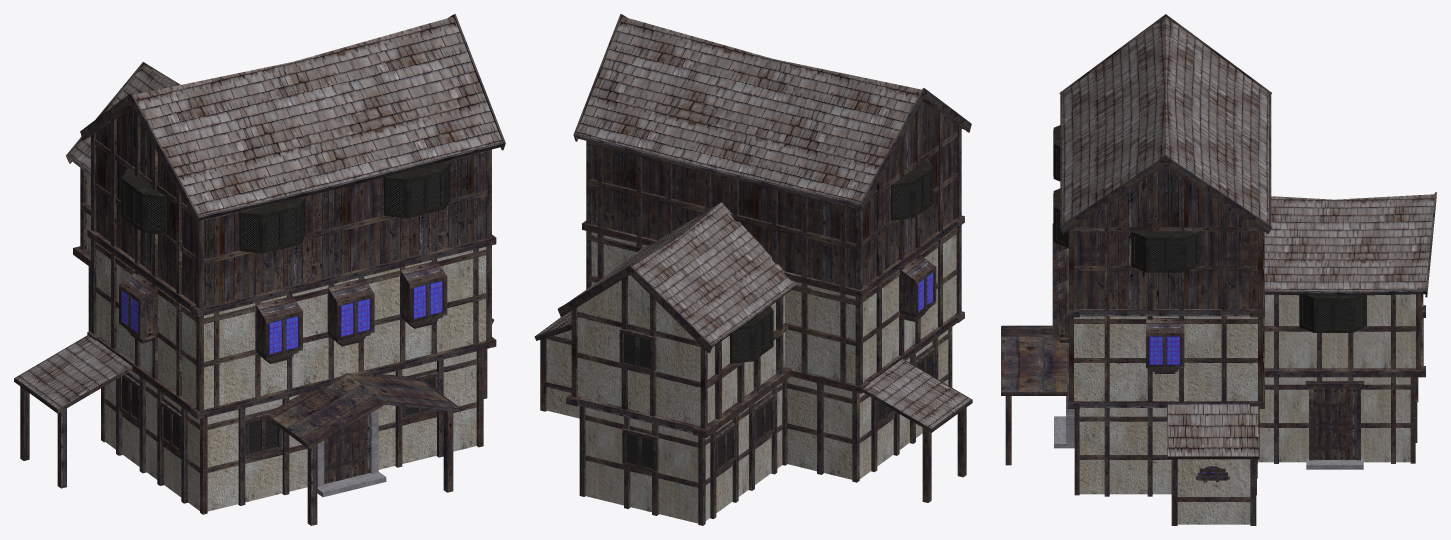
Rendered from thouse20.dae.
The picture shows the model from 3 angles, left to right: view 1: azimuth 30°, elevation 25°; view 2: azimuth 150°, elevation 25°; view 3: azimuth 270°, elevation 25°; orthographic projection. The views are drawn at different scales.
Parts seen in each view (by area): view 1: House2_Roof, House2_Level3, House2_Level2, House2_Level1, House2_Level3_Beams, House2_Level2_Beams, House2_Level1_Beams, Roof1Outer, Roof2Outer, House2_Level2_SeperatorBeams, House2_Roof_Frame, House2_Level1_SeperatorBeams (+25 smaller); view 2: House2_Roof, House2_Level3, House5_Level2, House5_Roof, House5_Level1, House2_Level3_Beams, House2_Level2, House2_Level1, House2_Level2_Beams, House5_Level1_Beams, House5_Level2_Beams, House2_Level1_Beams (+19 smaller); view 3: House2_Roof, House5_Roof, House2_Level3, House2_Level2, House5_Level2, House5_Level1, House2_Level1, BuildingExtensions4Roof, House2_Level3_Beams, Roof1Outer, BuildingExtensions4, House2_Level2_Beams (+21 smaller).
Boxes of the visible parts, x1,y1,x2,y2 form: House2_Roof: (133,16,502,215); House2_Level3: (96,107,486,307); House2_Level2: (96,243,486,409); House2_Level1: (105,351,476,511); House2_Level3_Beams: (91,111,491,308); House2_Level2_Beams: (91,239,491,411); House2_Level1_Beams: (101,350,483,514); Roof1Outer: (269,373,458,444); Roof2Outer: (16,335,131,408); House2_Level2_SeperatorBeams: (87,229,496,316); House2_Roof_Frame: (80,14,505,224); House2_Level1_SeperatorBeams: (87,331,496,419); House2_Roof: (576,16,921,202); House2_Level3: (591,101,956,288); House5_Level2: (577,275,784,426); House5_Roof: (584,202,795,344); House5_Level1: (585,383,782,523); House2_Level3_Beams: (586,104,961,289); House2_Level2: (591,228,956,384); House2_Level1: (787,330,948,479); House2_Level2_Beams: (586,225,961,385); House5_Level1_Beams: (579,379,787,525); House5_Level2_Beams: (571,276,788,428); House2_Level1_Beams: (787,327,952,482); House2_Roof: (1062,17,1269,224); House5_Roof: (1264,194,1434,291); House2_Level3: (1074,165,1257,308); House2_Level2: (1074,316,1257,400); House5_Level2: (1264,294,1415,368); House5_Level1: (1258,377,1410,462); House2_Level1: (1079,408,1171,494); BuildingExtensions4Roof: (1168,404,1258,456); House2_Level3_Beams: (1069,174,1264,309); Roof1Outer: (1001,326,1067,391); BuildingExtensions4: (1177,459,1250,524); House2_Level2_Beams: (1069,316,1264,401).
Size of the model in its own units: 11.52 by 11.36 by 10.2.
24 materials, 24 textured.
